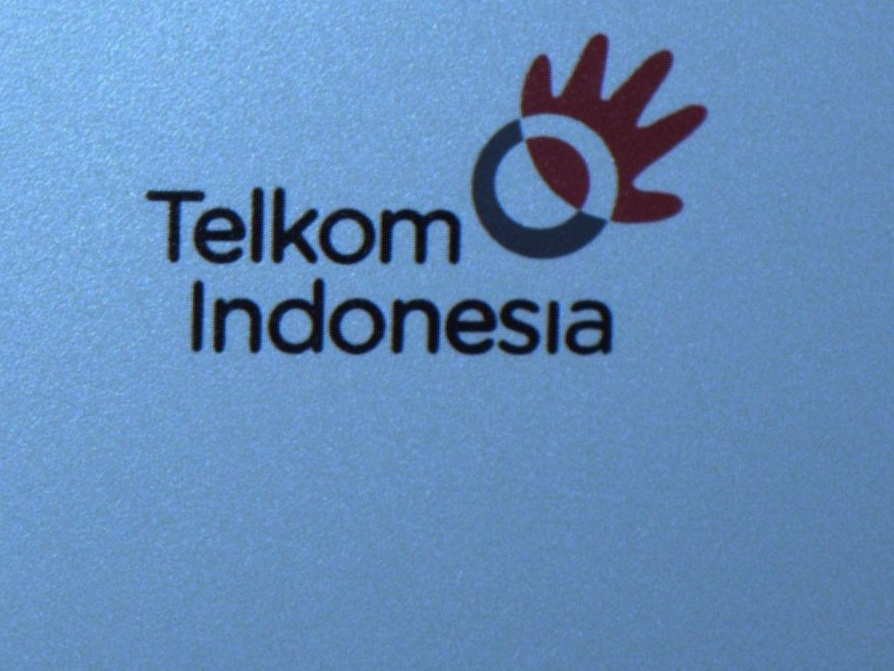BQ_IndonTelkom: (139, 27, 712, 368)
